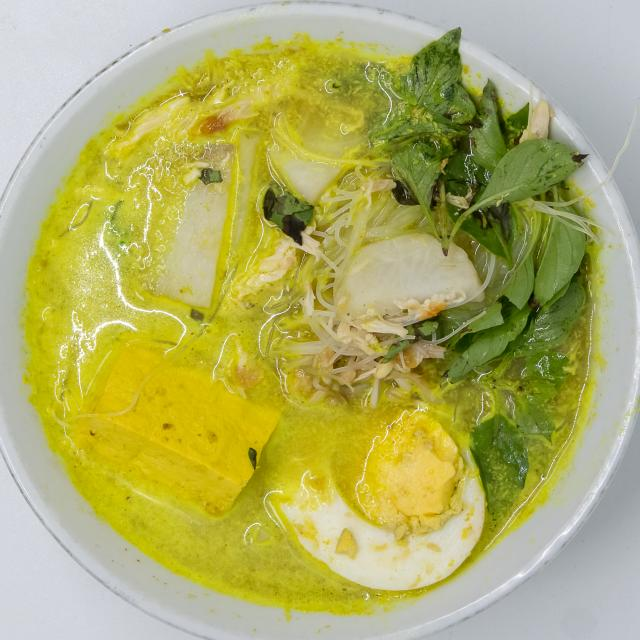Laksa-Bogor: (14, 24, 610, 617)
